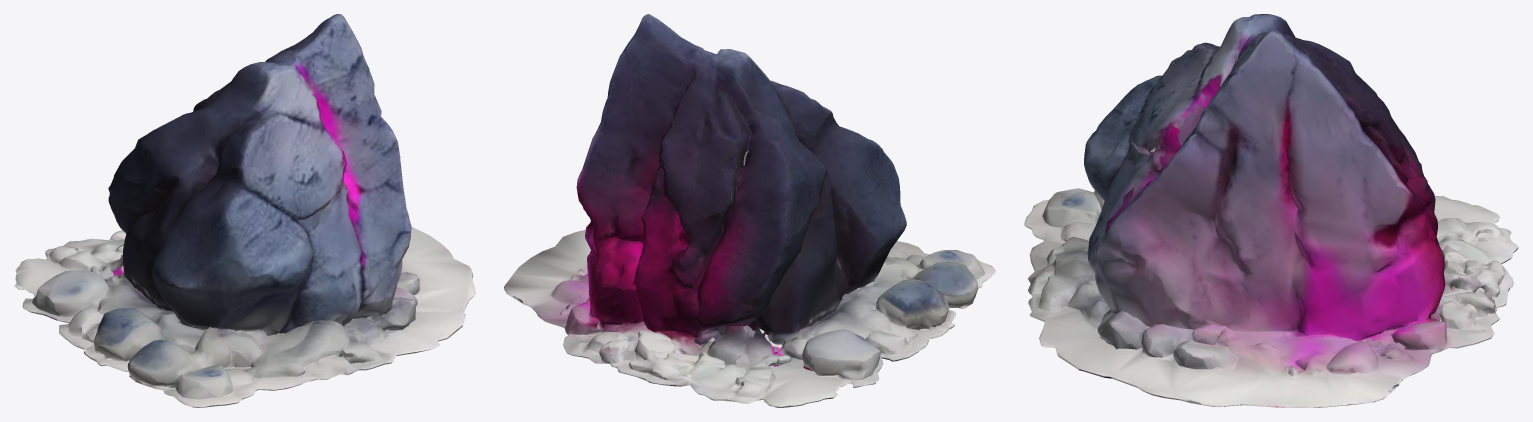
The model's file is shore-stone-3-generated-2026-05-17T19-58-56-912Z.low.glb.
3 renders of one model, left to right at view 1: azimuth 30°, elevation 25°; view 2: azimuth 150°, elevation 25°; view 3: azimuth 270°, elevation 25°, orthographic. The views are drawn at different scales.
Parts seen in each view (by area): view 1: temp_mesh.ply; view 2: temp_mesh.ply; view 3: temp_mesh.ply.
Boxes of the visible parts, bbox=[...] form: temp_mesh.ply: bbox=[14, 14, 475, 407]; temp_mesh.ply: bbox=[504, 14, 995, 407]; temp_mesh.ply: bbox=[1024, 14, 1518, 407].
Size of the model in its own units: 1.97 by 1.31 by 1.86.
Materials: 1 (1 with a texture image).
